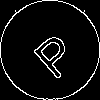P: (25, 25, 80, 81)
